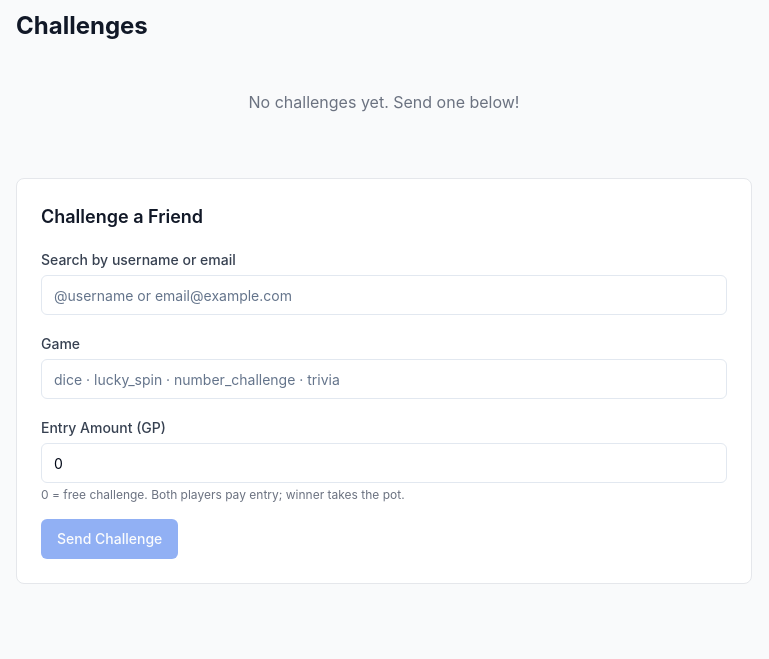
it: ChallengesPage — search › renders search results
Expected: the heading "Challenge a Friend" is shown, [41,206,203,227]
Type "petestar26" into the field labelled "Search by username or email".
click(384, 295); type("petestar26")  # box [41,275,727,315]
Wait 300 ms
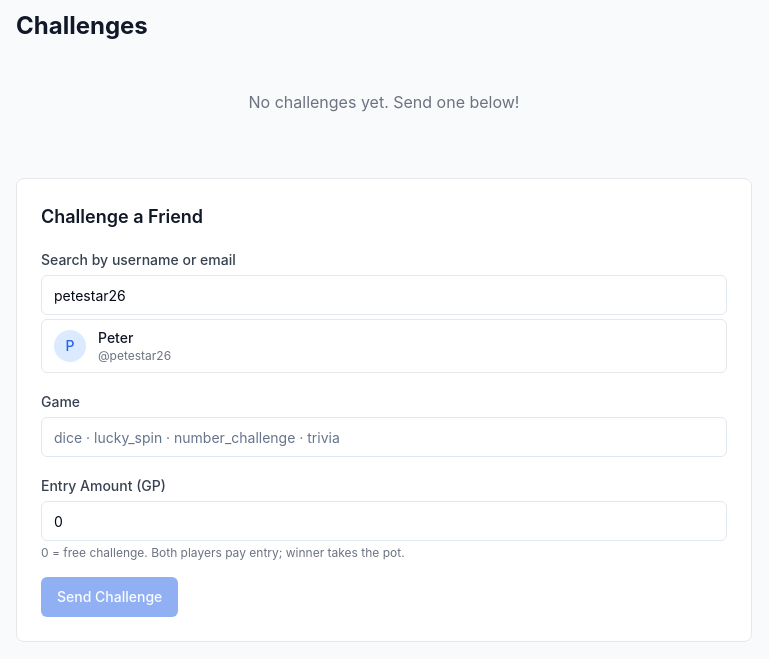
Now the text "Peter" is shown, box [98,329,133,346]
Now the text "@petestar26" is shown, box [98,348,171,363]
